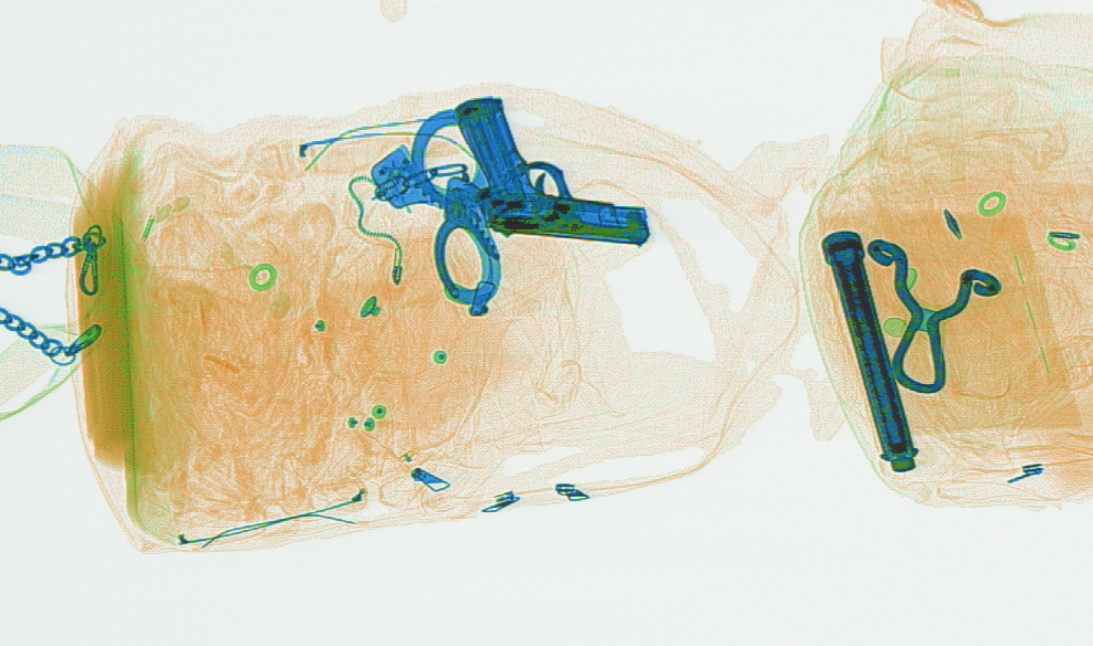handcuffs: (363, 104, 523, 317)
slingshot: (862, 238, 1003, 394)
